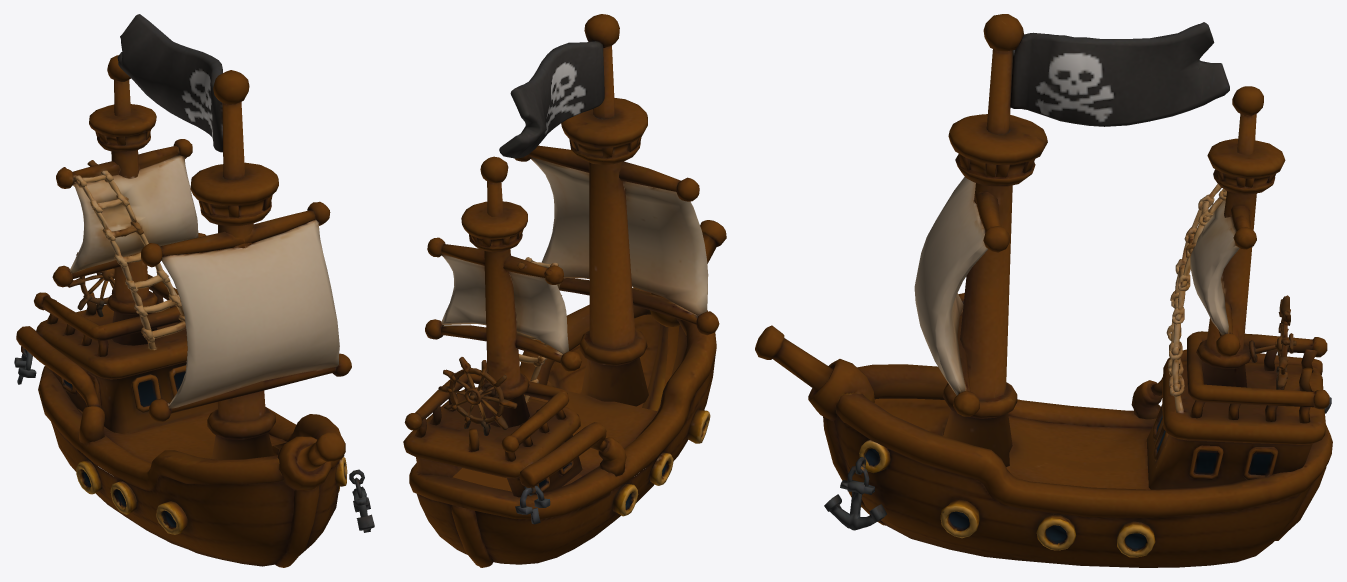
Rendered from boat_pirate.glb.
3 renders of one model, left to right at view 1: azimuth 30°, elevation 25°; view 2: azimuth 150°, elevation 25°; view 3: azimuth 270°, elevation 25°, orthographic. The views are drawn at different scales.
Parts seen in each view (by area): view 1: tripo_node_e324d22c-76aa-4de5-be4c-23c0042e1dd2; view 2: tripo_node_e324d22c-76aa-4de5-be4c-23c0042e1dd2; view 3: tripo_node_e324d22c-76aa-4de5-be4c-23c0042e1dd2.
Part boxes in pixels (<box>): tripo_node_e324d22c-76aa-4de5-be4c-23c0042e1dd2: <box>14,14,374,567</box>; tripo_node_e324d22c-76aa-4de5-be4c-23c0042e1dd2: <box>403,14,726,567</box>; tripo_node_e324d22c-76aa-4de5-be4c-23c0042e1dd2: <box>755,14,1332,567</box>.
Bounding box in the file's own units: 0.4473 × 0.998 × 0.998.
Materials: 1 (1 with a texture image).
